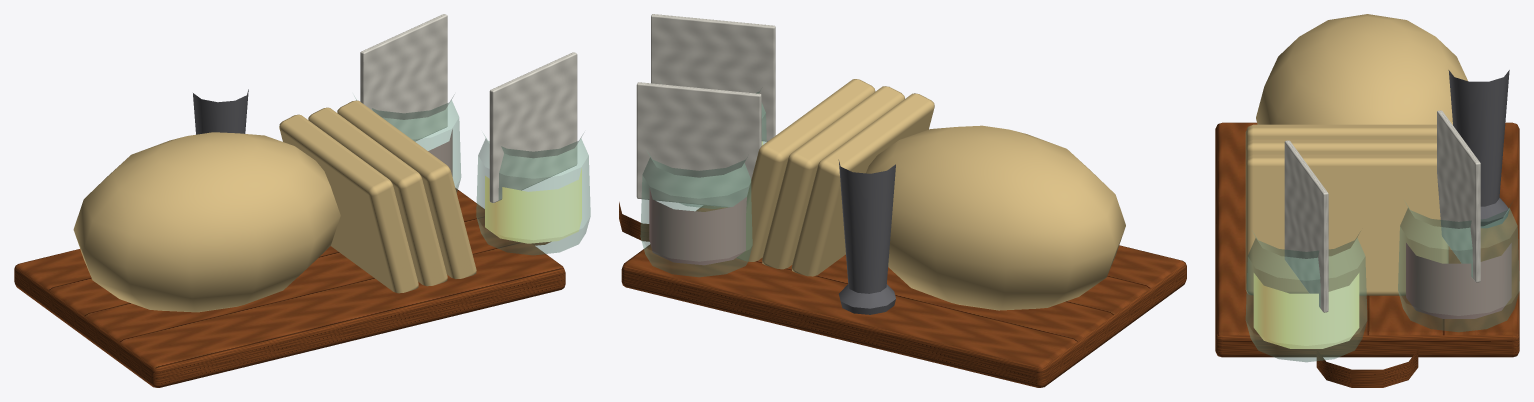
The model's file is witch-cottage-and-apothecary-bread-and-preserves-board-d797506d__32461.glb.
3 renders of one model, left to right at view 1: azimuth 30°, elevation 25°; view 2: azimuth 150°, elevation 25°; view 3: azimuth 270°, elevation 25°, orthographic. The views are drawn at different scales.
Parts seen in each view (by area): view 1: bread-and-preserves-board; view 2: bread-and-preserves-board; view 3: bread-and-preserves-board.
Part boxes in pixels (left/top/right/bottom): bread-and-preserves-board: left=14, top=14, right=590, bottom=387; bread-and-preserves-board: left=619, top=14, right=1186, bottom=387; bread-and-preserves-board: left=1215, top=14, right=1519, bottom=387.
Size of the model in its own units: 0.5776 by 0.215 by 0.3.
Materials: 7 (2 with a texture image).
